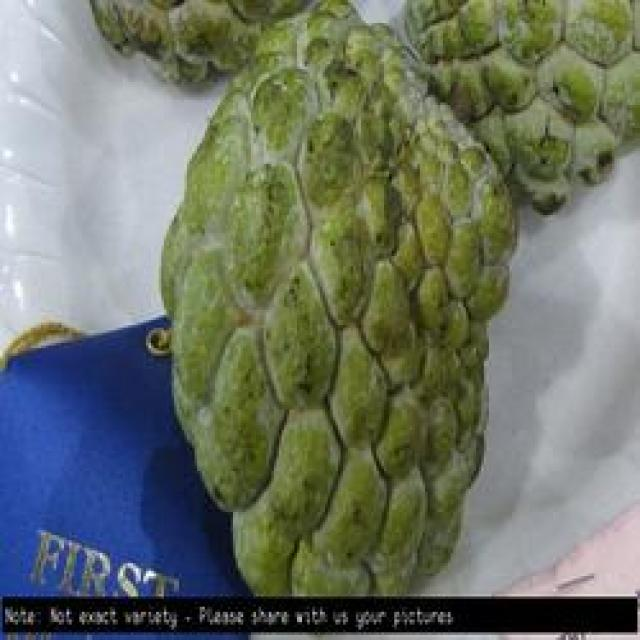apple: (162, 10, 509, 640)
